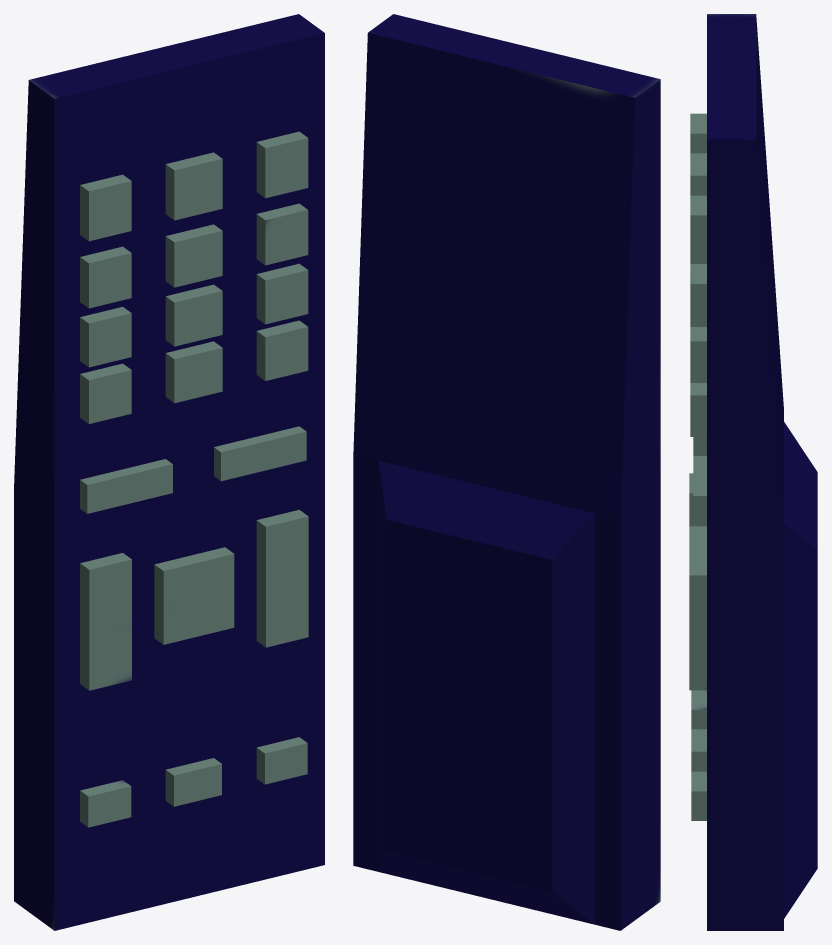
Rendered from remoteController.gltf.
3 views of the same model, side by side, from view 1: azimuth 30°, elevation 25°; view 2: azimuth 150°, elevation 25°; view 3: azimuth 270°, elevation 25° (orthographic). The views are drawn at different scales.
Visible parts, largest first — view 1: Cube; view 2: Cube; view 3: Cube.
Part boxes in pixels (x1=…): Cube: x1=14, y1=14, x2=324, y2=930; Cube: x1=353, y1=14, x2=660, y2=930; Cube: x1=689, y1=14, x2=817, y2=930.
Bounding box in the file's own units: 2 × 5.88 × 0.864.
Materials: 1 (1 with a texture image).
